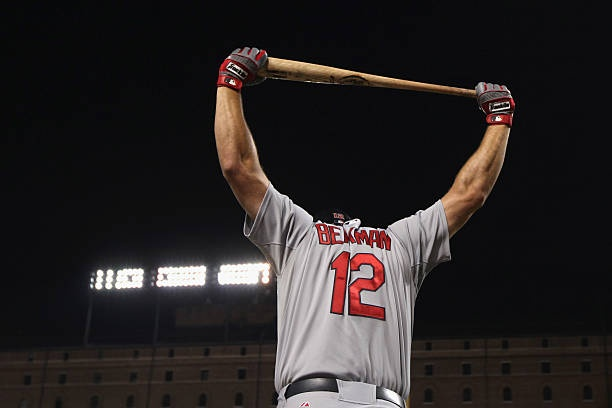bita: (248, 54, 518, 107)
